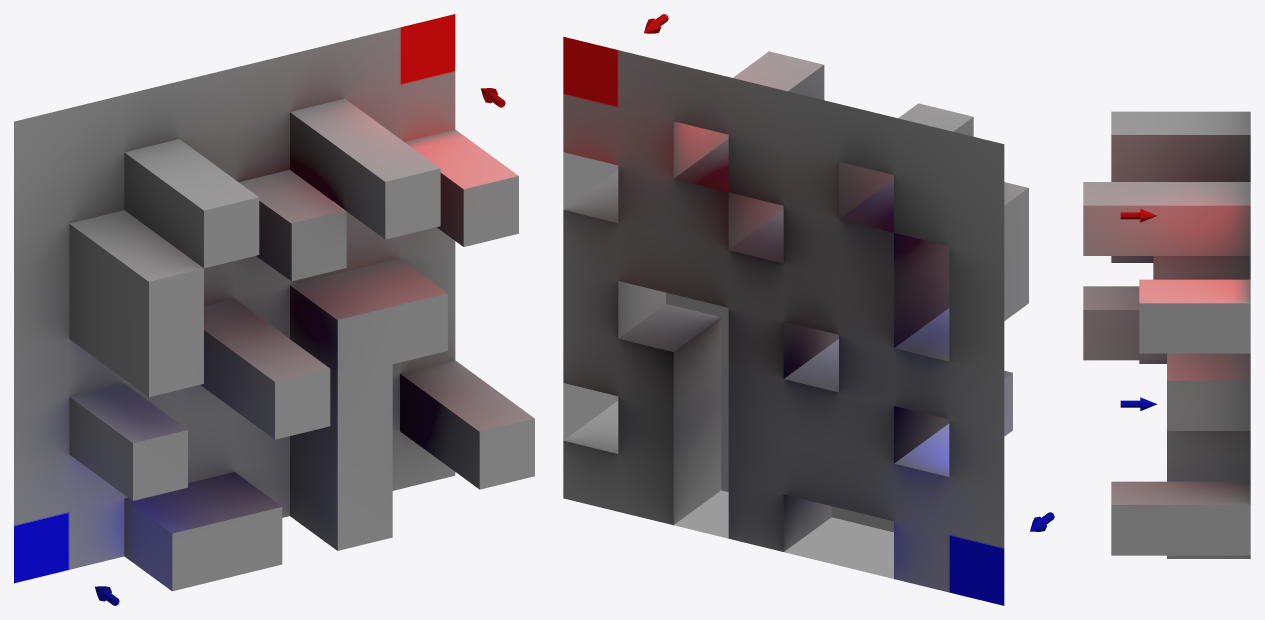
Rendered from maze.obj.
3 renders of one model, left to right at view 1: azimuth 30°, elevation 25°; view 2: azimuth 150°, elevation 25°; view 3: azimuth 270°, elevation 25°, orthographic. The views are drawn at different scales.
Visible parts, largest first — view 1: maze; view 2: maze; view 3: maze, enemy, player.
Boxes of the visible parts, x1=… form: maze: x1=14, y1=14, x2=534, y2=591; maze: x1=563, y1=36, x2=1028, y2=605; maze: x1=1083, y1=111, x2=1250, y2=558; enemy: x1=1120, y1=209, x2=1156, y2=222; player: x1=1120, y1=397, x2=1156, y2=410.
Size of the model in its own units: 24 by 24 by 9.
